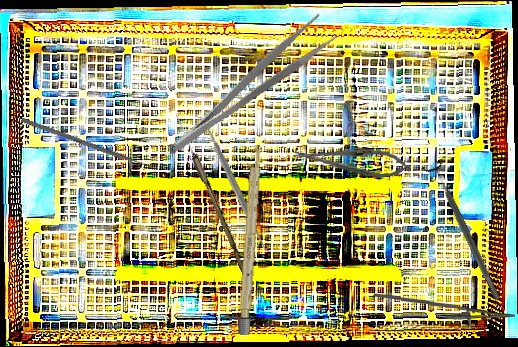Dressing Forceps: (158, 11, 340, 157)
Fixation Ring: (421, 158, 508, 305)
Needle Holder: (291, 138, 413, 183), (372, 292, 516, 329)
Pusher: (20, 117, 163, 174)
Scalpel Handle: (237, 144, 263, 336)
Spatula Surgical: (193, 109, 274, 258)
Surgical Spoon: (171, 112, 251, 276)
